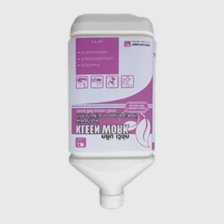cleaning_solution: (64, 10, 159, 211)
